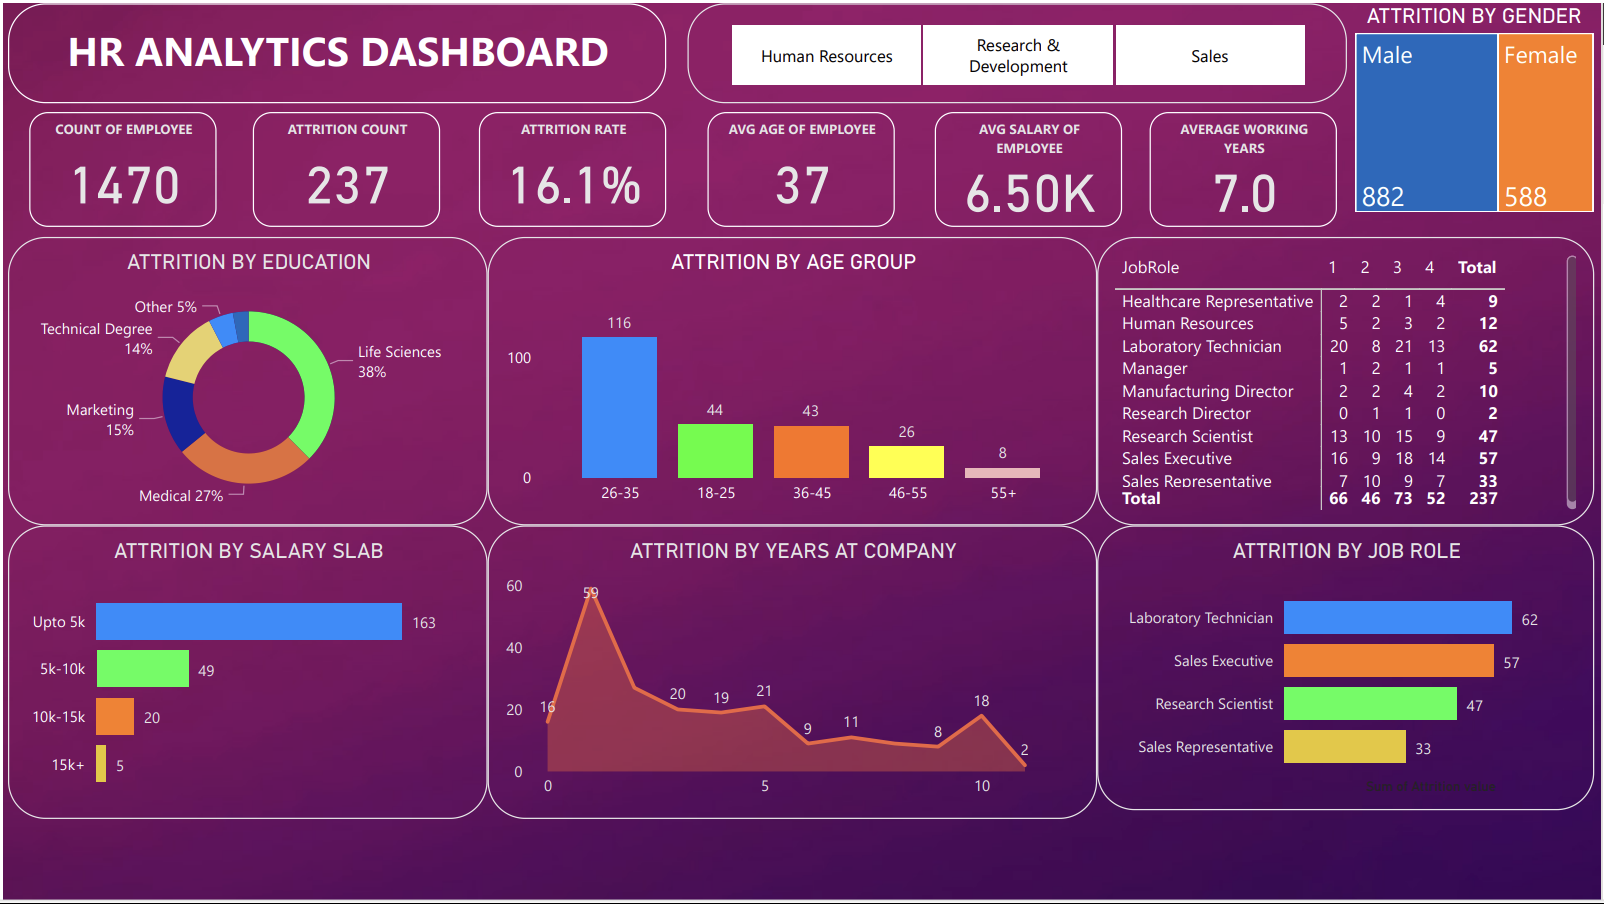

What the dashboard file says about the page in this screenshot:
{"tool":"powerbi","page":{"name":"Page 1","canvas":[1280,720],"ordinal":0},"visuals":[{"type":"card","title":"ATTRITION RATE","fields":{"Values":["HR_Analytics.ATTRITION_RATE"]},"box":[381.1,86.7,150,92.2],"z":0},{"type":"card","title":" AVG AGE OF EMPLOYEE","fields":{"Values":["Avg(HR_Analytics.Age)"]},"box":[564.4,86.7,150,92.2],"z":1000},{"type":"card","title":"AVG SALARY OF EMPLOYEE","fields":{"Values":["Avg(HR_Analytics.MonthlyIncome)"]},"box":[745.6,86.7,150,92.2],"z":2000},{"type":"card","title":"AVERAGE WORKING YEARS","fields":{"Values":["Avg(HR_Analytics.YearsAtCompany)"]},"box":[917.8,86.7,150,92.2],"z":3000},{"type":"card","title":"COUNT OF EMPLOYEE","fields":{"Values":["CountNonNull(HR_Analytics.EmpID)"]},"box":[21.1,86.7,150,92.2],"z":4000},{"type":"card","title":"ATTRITION COUNT","fields":{"Values":["Sum(HR_Analytics.Attrition value)"]},"box":[200,86.7,150,92.2],"z":5000},{"type":"donutChart","title":"ATTRITION BY EDUCATION","fields":{"Y":["Sum(HR_Analytics.Attrition value)"],"Category":["HR_Analytics.EducationField"]},"box":[4.4,186.7,383.3,231.1],"z":6000},{"type":"areaChart","title":"ATTRITION BY YEARS AT COMPANY","fields":{"Y":["Sum(HR_Analytics.Attrition value)"],"Category":["HR_Analytics.YearsAtCompany"]},"box":[387.8,417.8,487.8,235.6],"z":7000},{"type":"barChart","title":"ATTRITION BY SALARY SLAB","fields":{"Category":["HR_Analytics.SalarySlab"],"Y":["Sum(HR_Analytics.Attrition value)"]},"box":[4.4,417.8,383.3,235.6],"z":8000},{"type":"columnChart","title":"ATTRITION BY AGE GROUP","fields":{"Category":["HR_Analytics.AgeGroup"],"Y":["Sum(HR_Analytics.Attrition value)"]},"box":[387.8,186.7,487.8,231.1],"z":9000},{"type":"barChart","title":"ATTRITION BY JOB ROLE","fields":{"Y":["Sum(HR_Analytics.Attrition value)"],"Category":["HR_Analytics.JobRole"]},"box":[875.6,417.8,398.9,227.8],"z":10000},{"type":"pivotTable","fields":{"Rows":["HR_Analytics.JobRole"],"Columns":["HR_Analytics.JobSatisfaction"],"Values":["Sum(HR_Analytics.Attrition value)"]},"box":[875.6,186.7,398.9,231.1],"z":11000},{"type":"treemap","title":"ATTRITION BY GENDER","fields":{"Group":["HR_Analytics.Gender"],"Values":["CountNonNull(HR_Analytics.Attrition value)"]},"box":[1077.8,0,200,172.2],"z":12000},{"type":"textbox","box":[4.4,0,526.7,80],"z":13000},{"type":"slicer","fields":{"Values":["HR_Analytics.Department"]},"box":[547.8,0,527.8,80],"z":14000}]}

Visuals, with their boxes in screenshot pixels (x1, y1, x2, y2), scaled from the page's 1280x720 canvas onto the 1604x904 screenshot:
"ATTRITION RATE" card: <region>478, 109, 666, 225</region>
" AVG AGE OF EMPLOYEE" card: <region>707, 109, 895, 225</region>
"AVG SALARY OF EMPLOYEE" card: <region>934, 109, 1122, 225</region>
"AVERAGE WORKING YEARS" card: <region>1150, 109, 1338, 225</region>
"COUNT OF EMPLOYEE" card: <region>26, 109, 214, 225</region>
"ATTRITION COUNT" card: <region>251, 109, 439, 225</region>
"ATTRITION BY EDUCATION" donutChart: <region>6, 234, 486, 525</region>
"ATTRITION BY YEARS AT COMPANY" areaChart: <region>486, 525, 1097, 820</region>
"ATTRITION BY SALARY SLAB" barChart: <region>6, 525, 486, 820</region>
"ATTRITION BY AGE GROUP" columnChart: <region>486, 234, 1097, 525</region>
"ATTRITION BY JOB ROLE" barChart: <region>1097, 525, 1597, 811</region>
pivotTable - HR_Analytics.JobRole x HR_Analytics.JobSatisfaction: <region>1097, 234, 1597, 525</region>
"ATTRITION BY GENDER" treemap: <region>1351, 0, 1601, 216</region>
textbox: <region>6, 0, 666, 100</region>
slicer - HR_Analytics.Department: <region>686, 0, 1348, 100</region>
